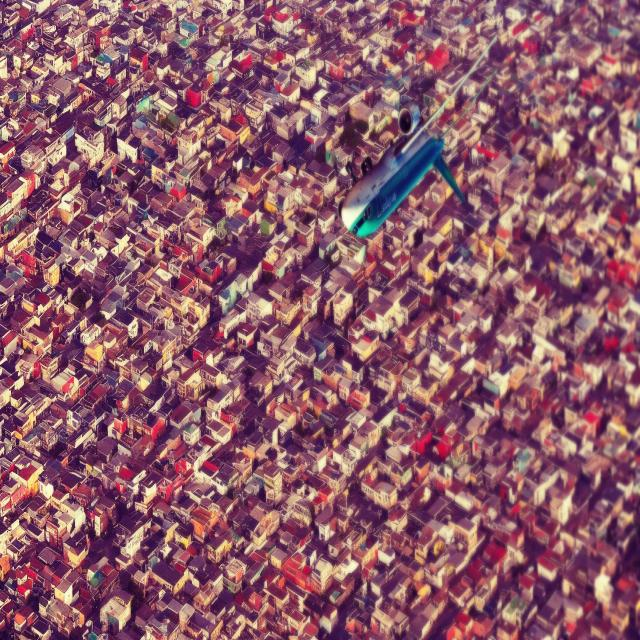airplane: (338, 33, 498, 238)
